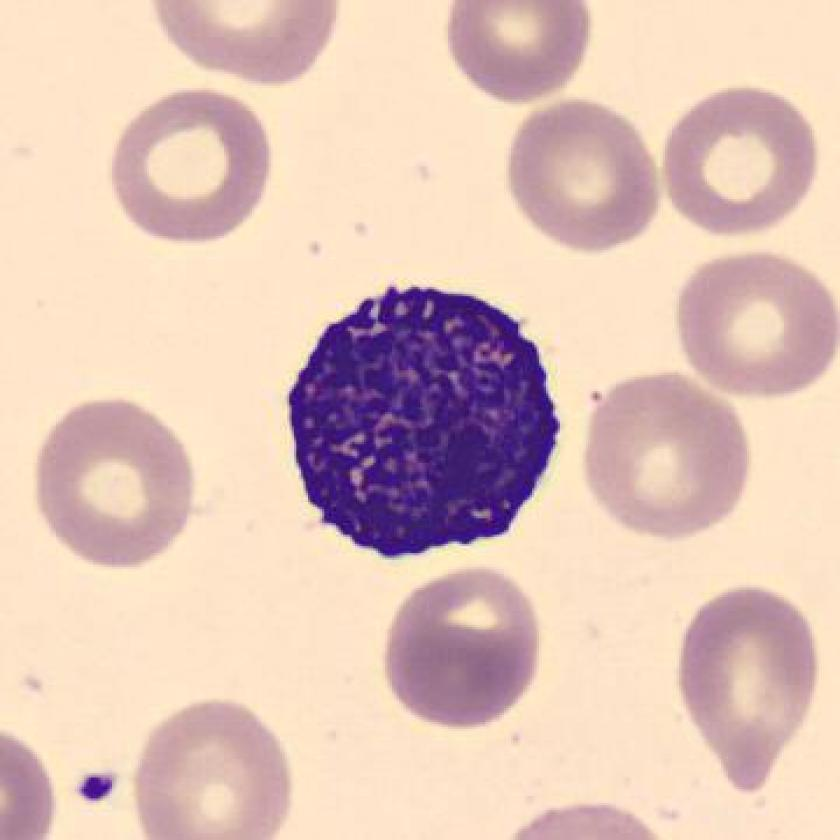basophil: (272, 269, 566, 561)
